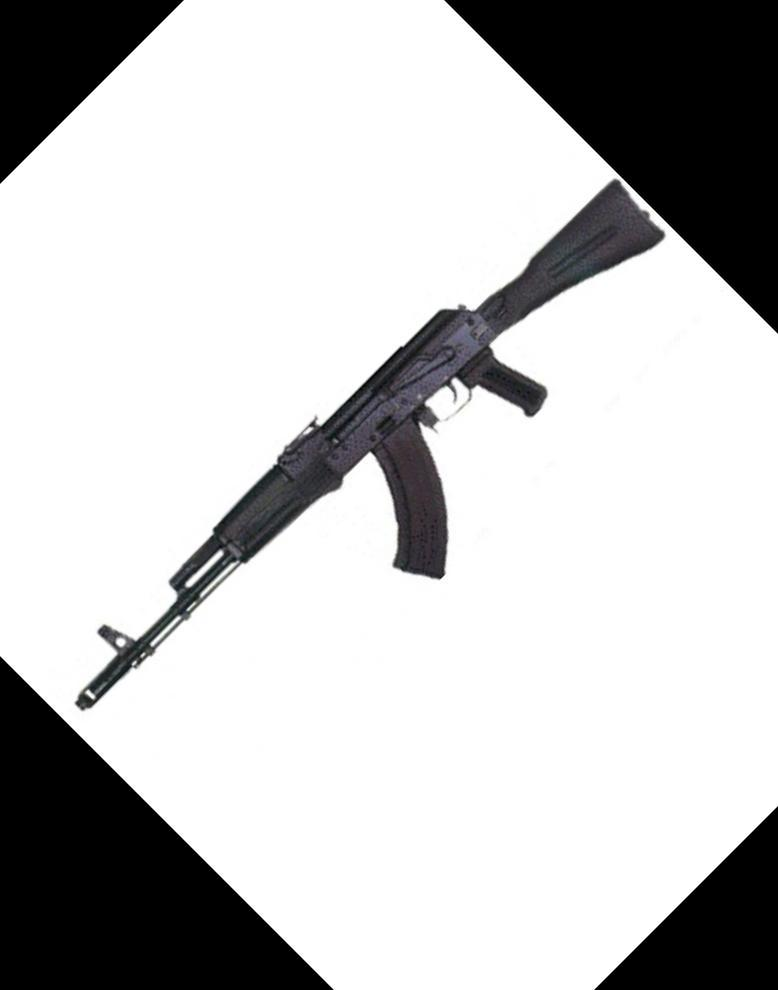larga: (72, 178, 668, 716)
